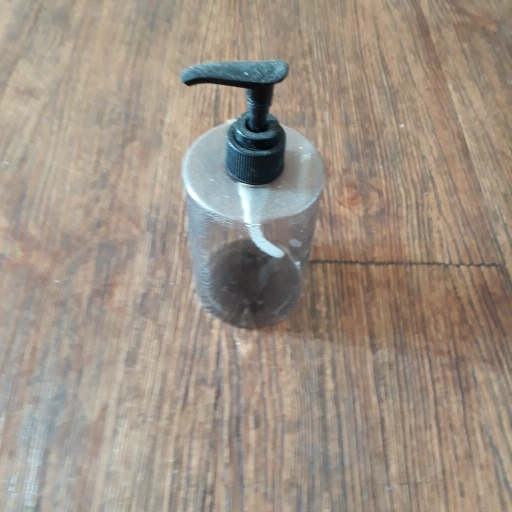Plastic_3: (177, 56, 326, 333)
